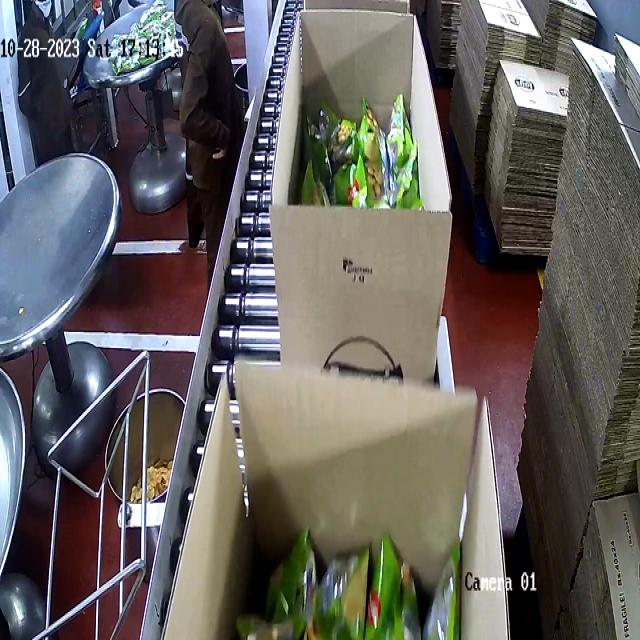YOGURT_HERB: (299, 92, 423, 209)
